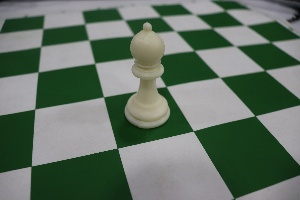white_bishop: (117, 13, 177, 138)
